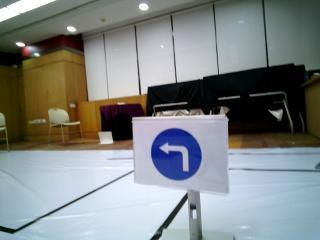left: (135, 116, 227, 187)
